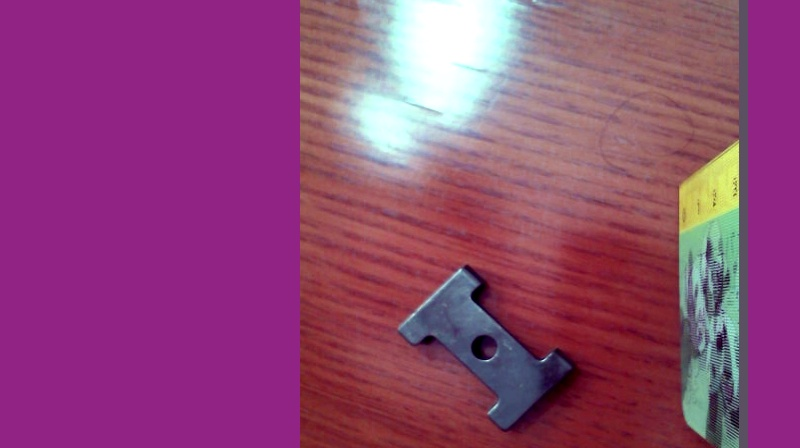O002: (390, 258, 577, 435)
